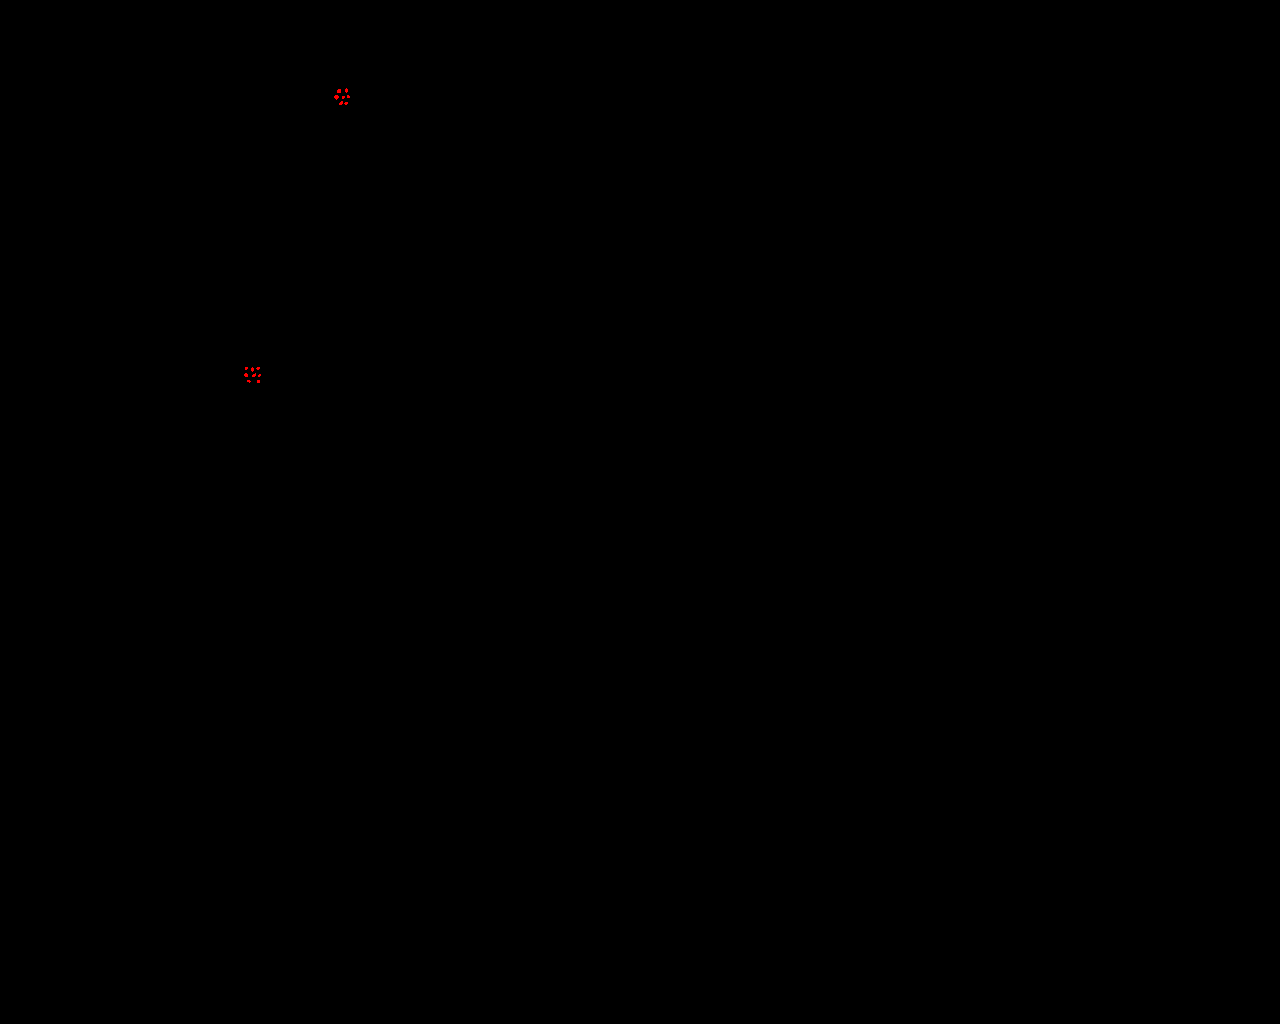Target: (334, 95, 339, 100), (252, 373, 256, 377), (345, 88, 348, 93), (251, 367, 254, 372), (338, 89, 341, 93), (339, 101, 343, 104), (256, 367, 260, 370), (245, 373, 248, 377), (247, 380, 251, 383), (347, 95, 350, 98), (342, 96, 345, 99), (245, 367, 248, 370), (258, 374, 261, 377), (257, 380, 260, 383), (344, 102, 348, 104)
